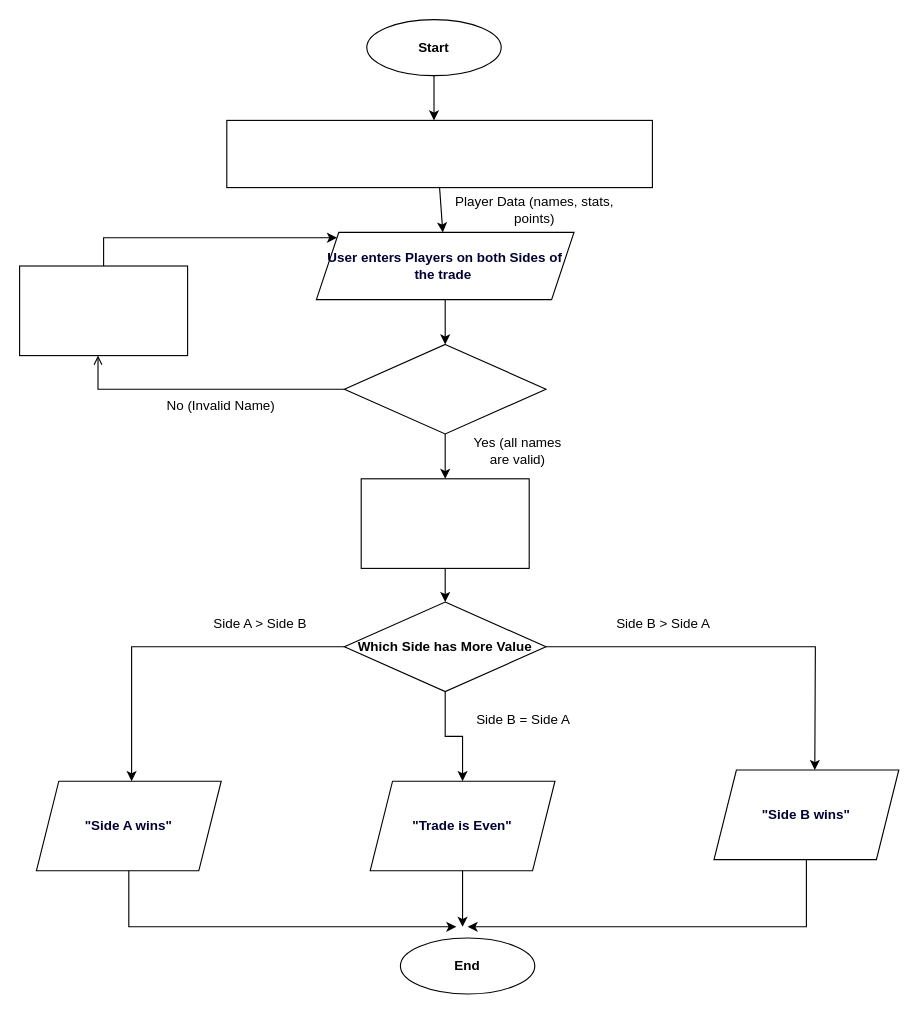
Some shapes in this 918 by 1014 pixel diagram are drawn without their labels. The centre of each missing label's shape, as x and y in pixels:
Are NFL Player names valid?: point 444,388
Calculate Total Fantasy Value for each side: point 444,523
Display Error Message: point 103,310
Load NFL player statistics from NFL CSV file: point 439,153
